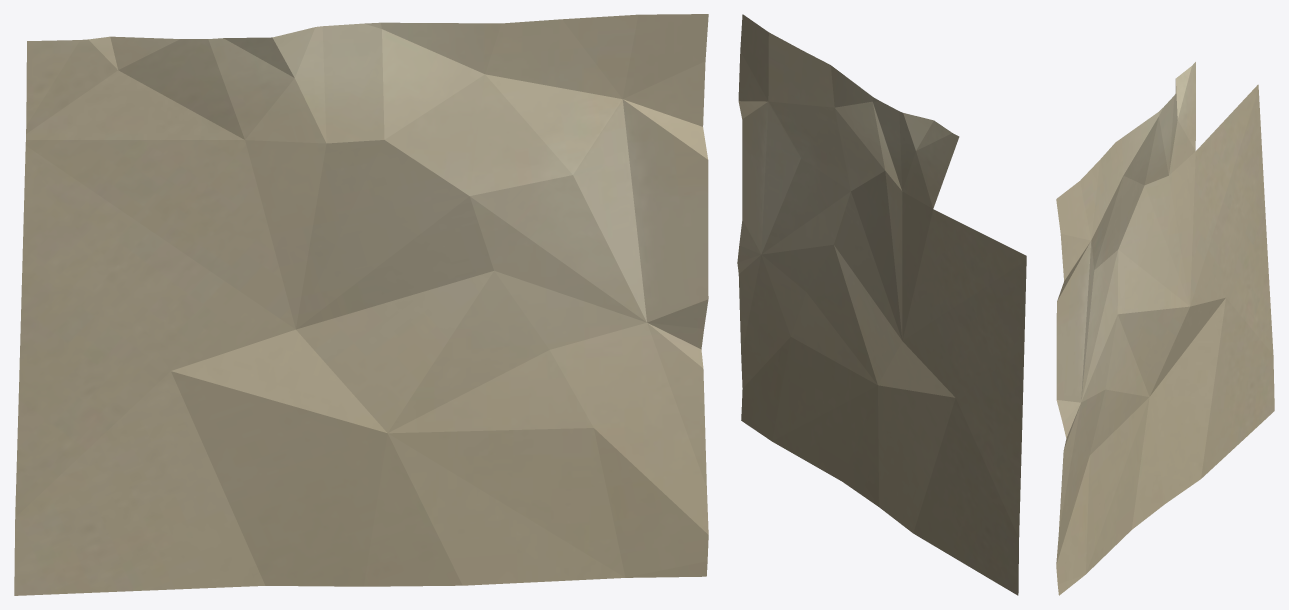
3 renders of one model, left to right at view 1: azimuth 30°, elevation 25°; view 2: azimuth 150°, elevation 25°; view 3: azimuth 270°, elevation 25°, orthographic. The views are drawn at different scales.
Size of the model in its own units: 0.8374 by 0.8374 by 0.4179.
Materials: 3 (3 with a texture image).
